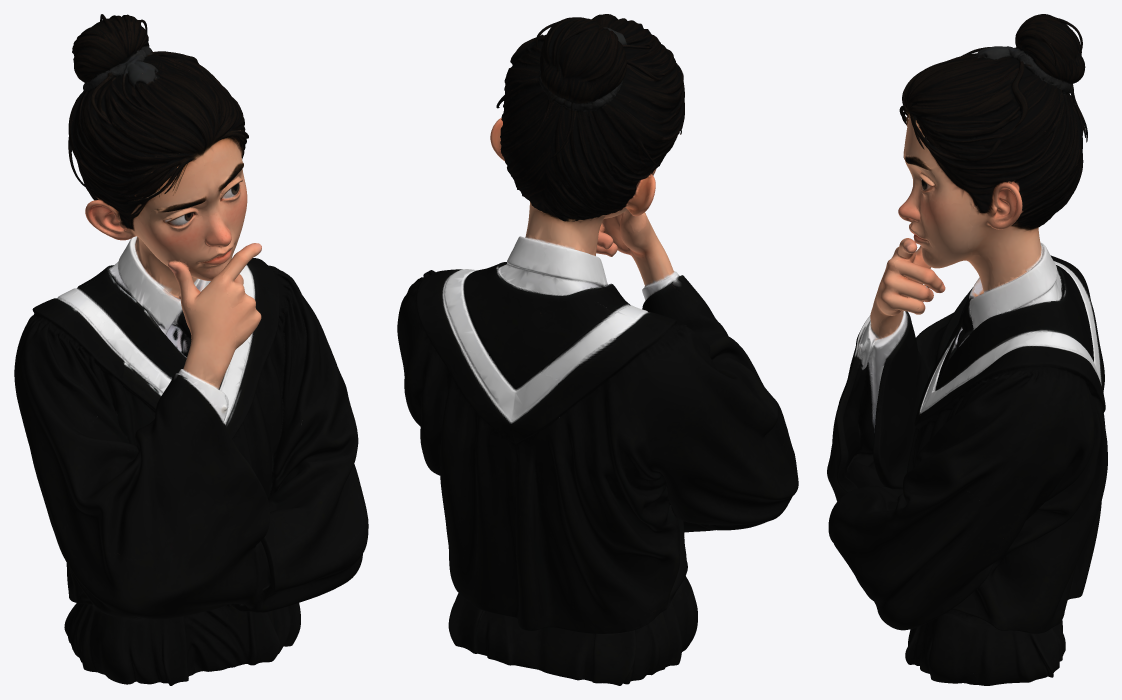
The model's file is 123zip.glb.
3 views of the same model, side by side, from view 1: azimuth 30°, elevation 25°; view 2: azimuth 150°, elevation 25°; view 3: azimuth 270°, elevation 25° (orthographic). The views are drawn at different scales.
Bounding box in the file's own units: 0.9731 × 1.9 × 0.8004.
Materials: 1 (1 with a texture image).
